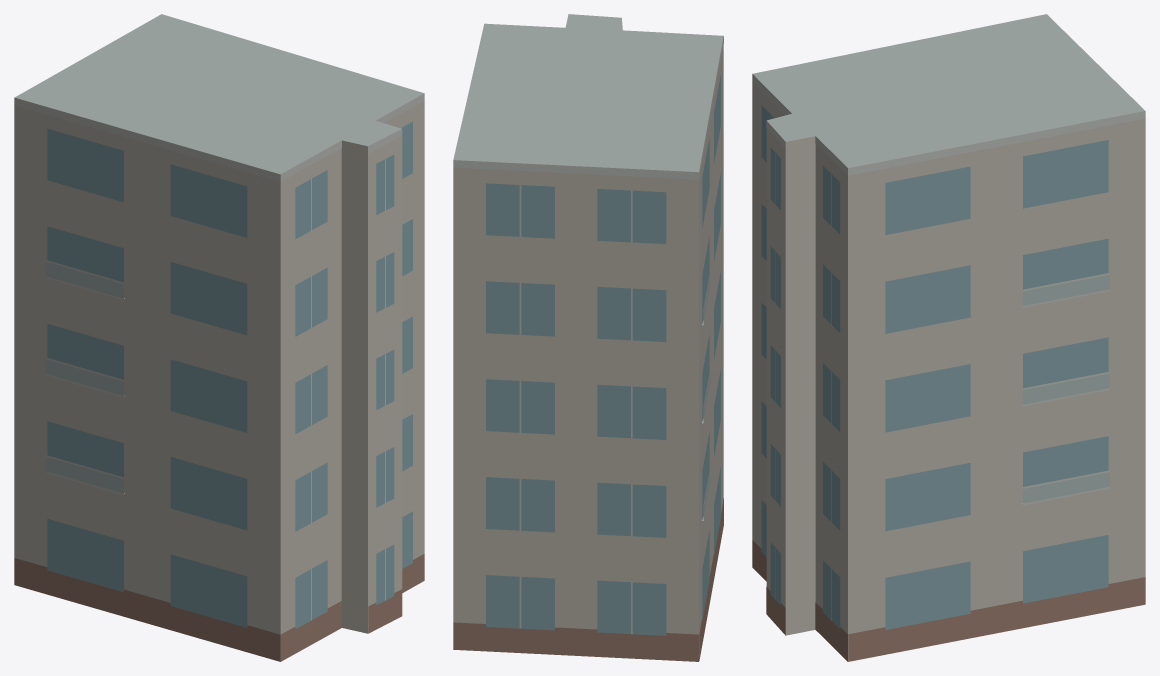
File: survey-upis-32737594.glb
3 views of the same model, side by side, from view 1: azimuth 30°, elevation 25°; view 2: azimuth 150°, elevation 25°; view 3: azimuth 270°, elevation 25° (orthographic).
Visible parts, largest first — view 1: survey-upis-32737594.tmp; view 2: survey-upis-32737594.tmp; view 3: survey-upis-32737594.tmp.
Part boxes in pixels (x1=…): survey-upis-32737594.tmp: x1=14, y1=14, x2=424, y2=661; survey-upis-32737594.tmp: x1=453, y1=14, x2=723, y2=661; survey-upis-32737594.tmp: x1=752, y1=14, x2=1145, y2=661.
Bounding box in the file's own units: 10.73 × 16 × 11.56.
